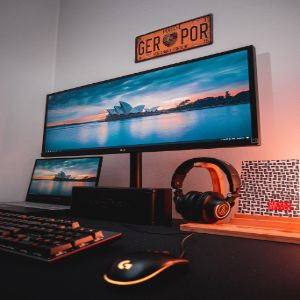headset: (166, 153, 243, 229)
keyboard: (1, 201, 124, 278)
mouse: (101, 246, 193, 289)
